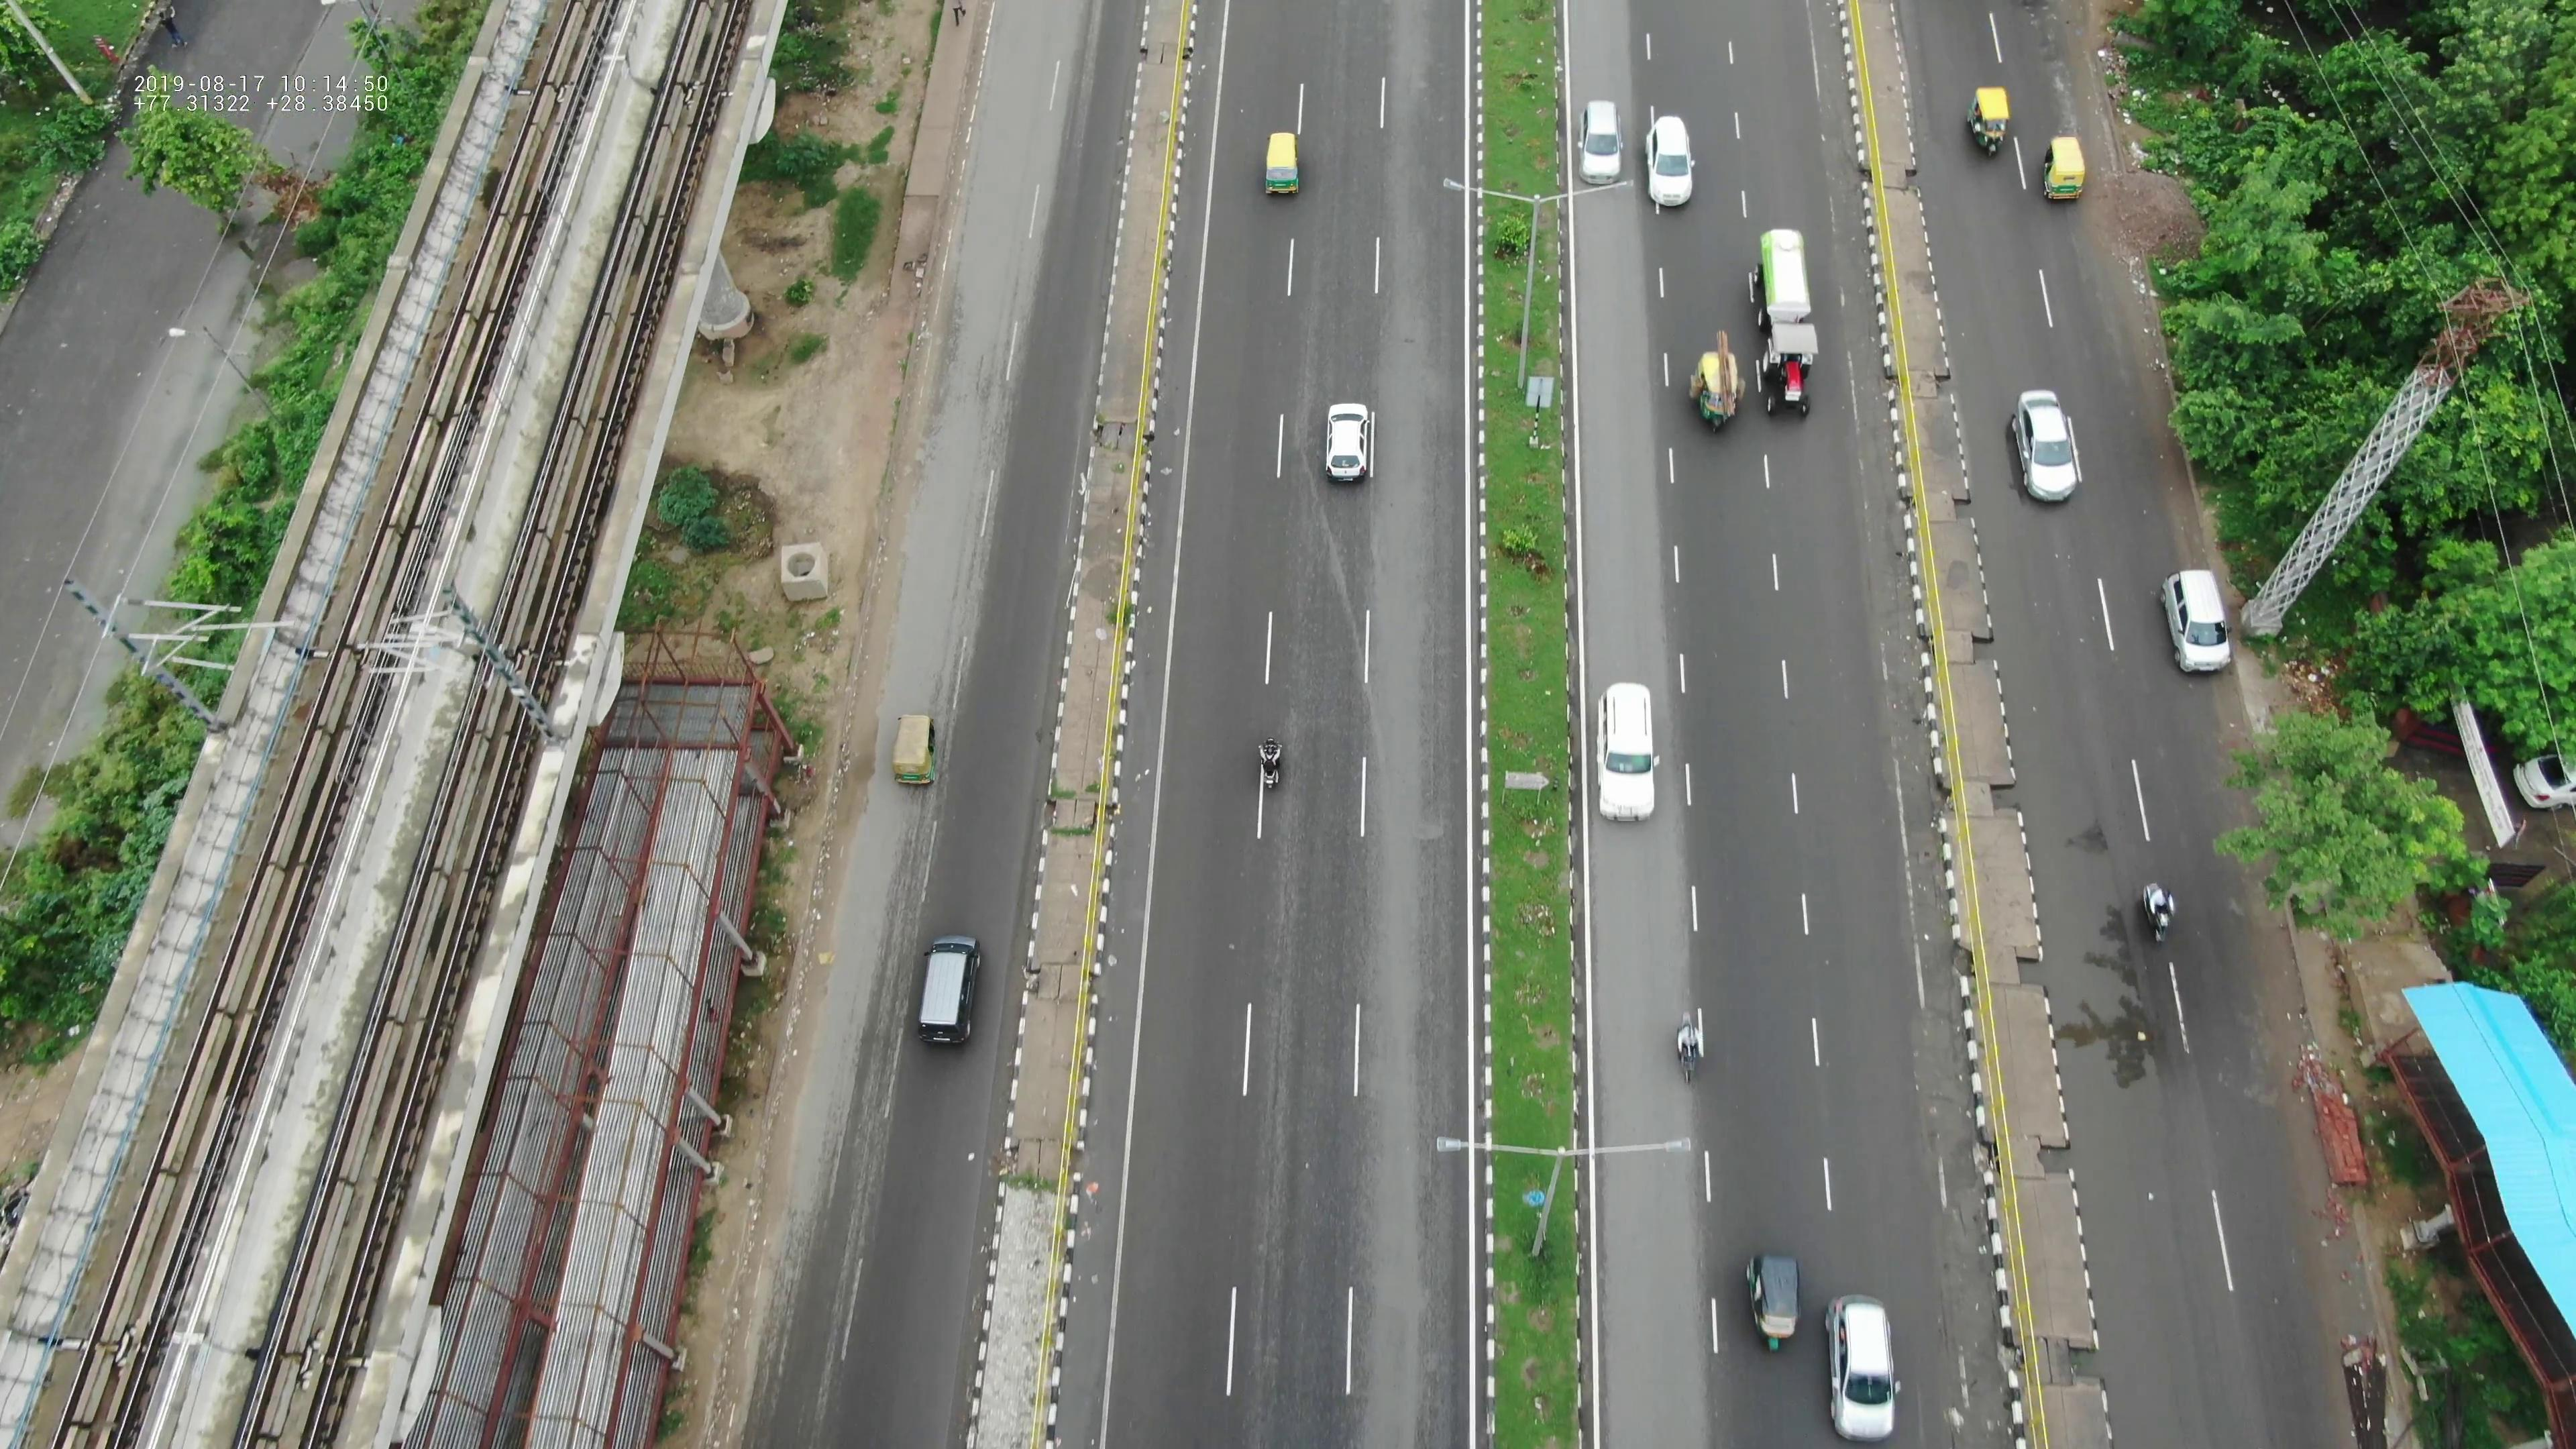Muddy_road: (1884, 961, 2005, 1299), (1870, 653, 1955, 943), (2052, 154, 2222, 290), (1838, 377, 1928, 617)
Waterlogging: (1994, 633, 2171, 1230)
